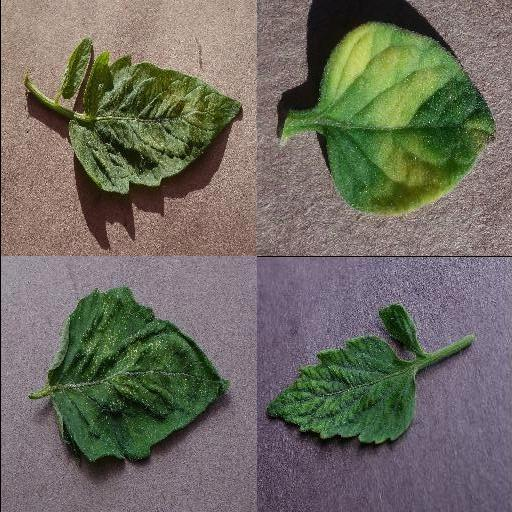Leaf Mold: (314, 22, 498, 218)
Mosaic Virus: (265, 335, 419, 444)
Spider Mites: (48, 289, 230, 464), (67, 52, 243, 192)
